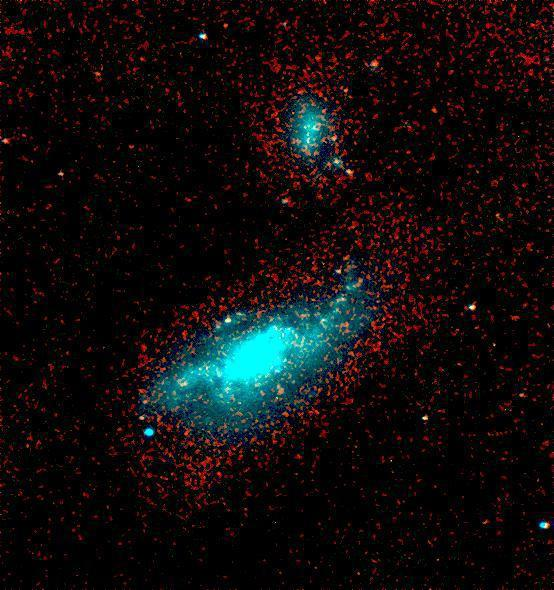star: (123, 406, 153, 436)
